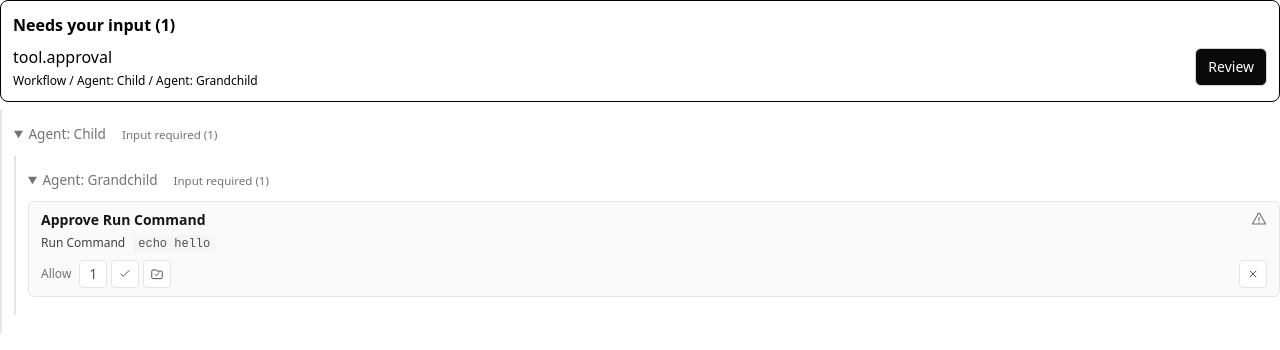
Scenario: an approval in flight survives collapse and updates the remounted controls
Click the button named "Approve once" at {"x": 93, "y": 274}, box [79,260,107,288]
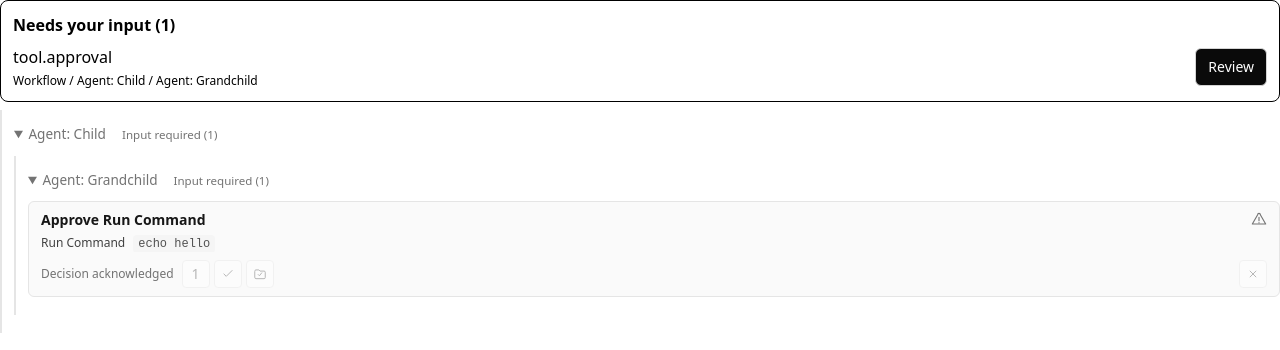
Expected: the button named "Approve once" is disabled, [182,260,210,288]
Expected: the text "Decision acknowledged" is shown, [41,266,174,282]
